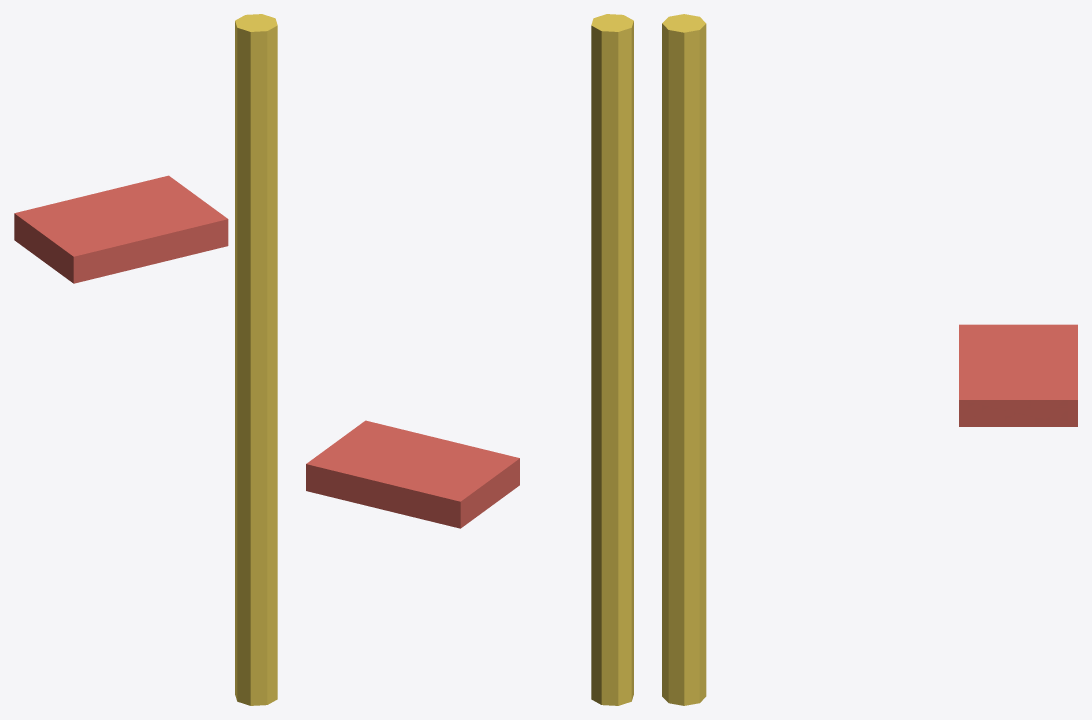
Rendered from plow_marker_stake.glb.
3 views of the same model, side by side, from view 1: azimuth 30°, elevation 25°; view 2: azimuth 150°, elevation 25°; view 3: azimuth 270°, elevation 25° (orthographic).
Visible parts, largest first — view 1: stake, flag; view 2: stake, flag; view 3: stake, flag.
Part boxes in pixels (box(x1,y1,x2,y2)): stake: box(235, 14, 277, 705); flag: box(14, 175, 228, 283); stake: box(591, 14, 633, 705); flag: box(306, 420, 519, 528); stake: box(662, 14, 706, 705); flag: box(959, 324, 1077, 426).
Size of the model in its own units: 0.24 by 1 by 0.5598.
